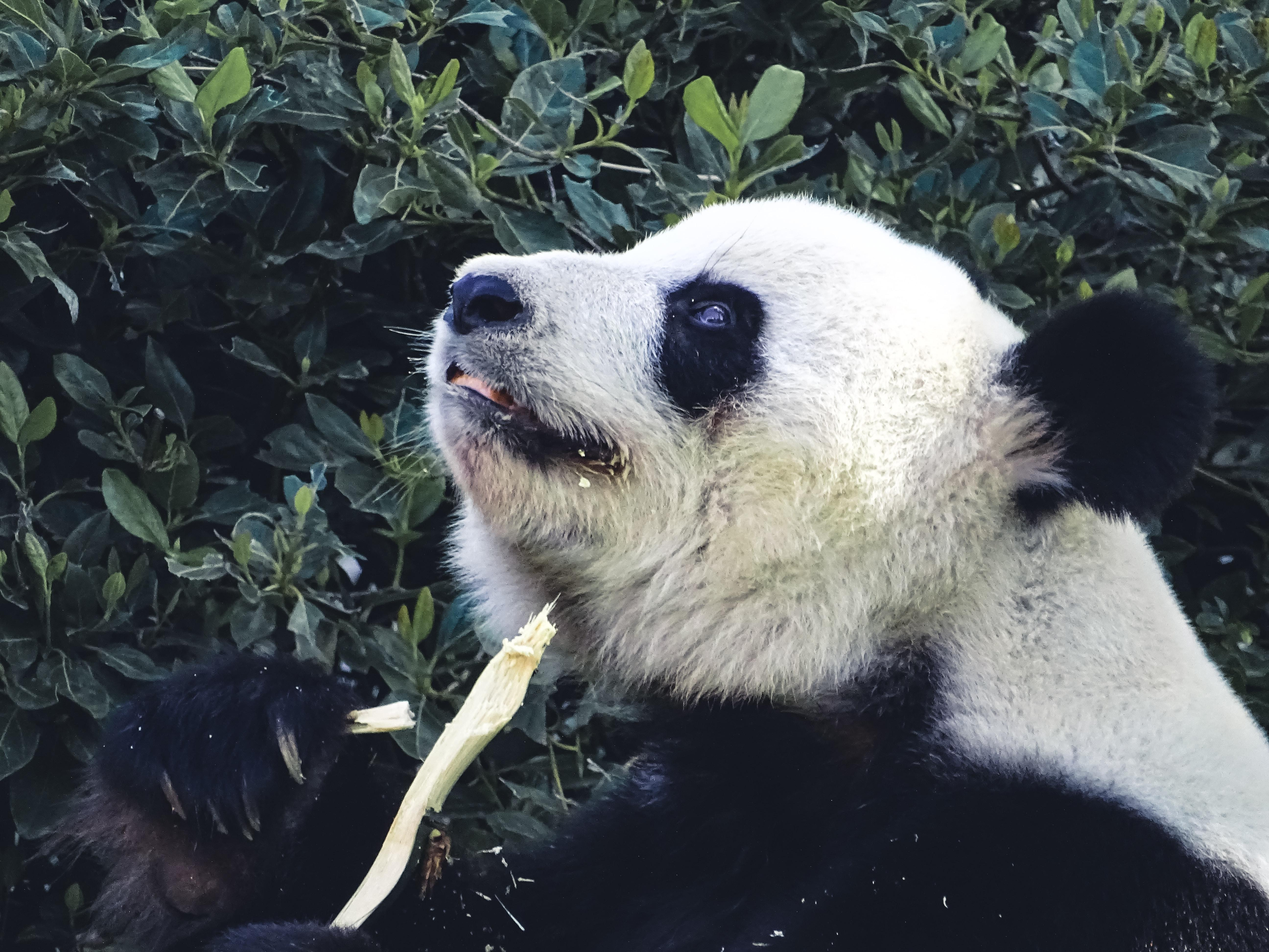panda: (407, 182, 1230, 940)
